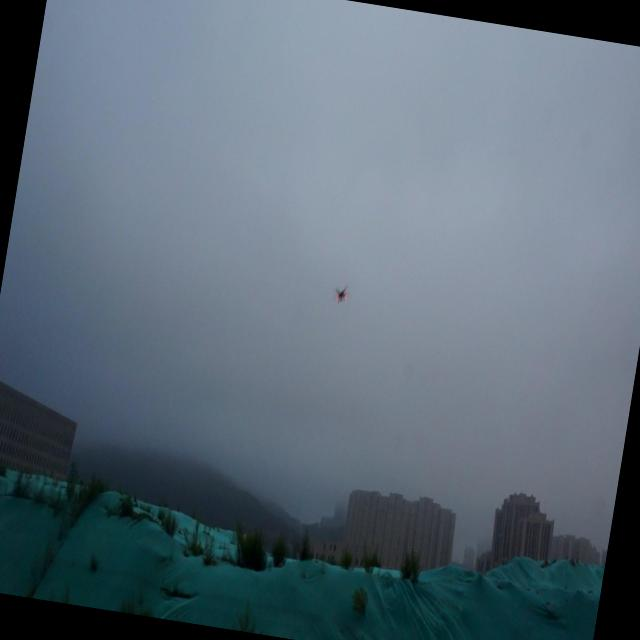drone: (331, 279, 354, 308)
